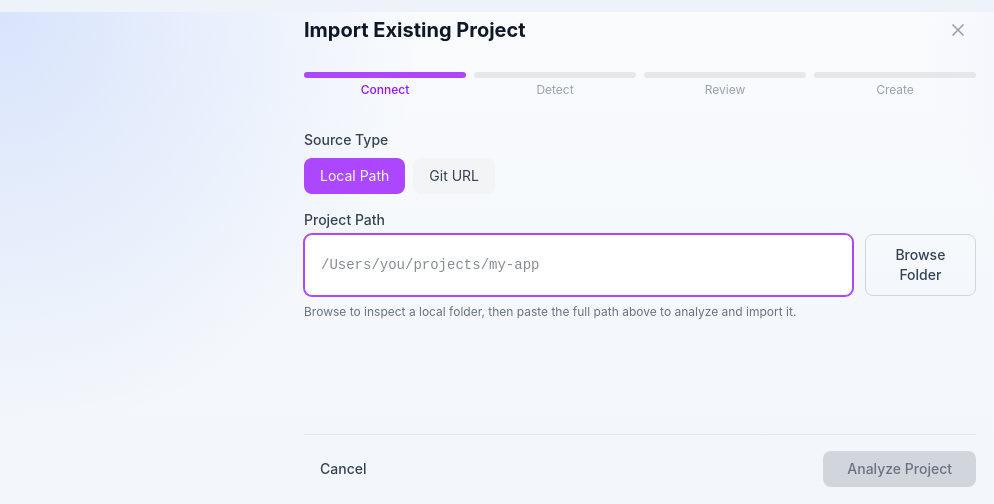
it: ImportProjectWizard › shows local folder browsing controls only in local mode
Expected: the button "Browse Folder" is shown, [865,234,976,296]
Expected: the field labelled "Project Path" is shown, [304,234,853,296]
Click the button "Git URL" at {"x": 454, "y": 176}, box [413,158,495,194]
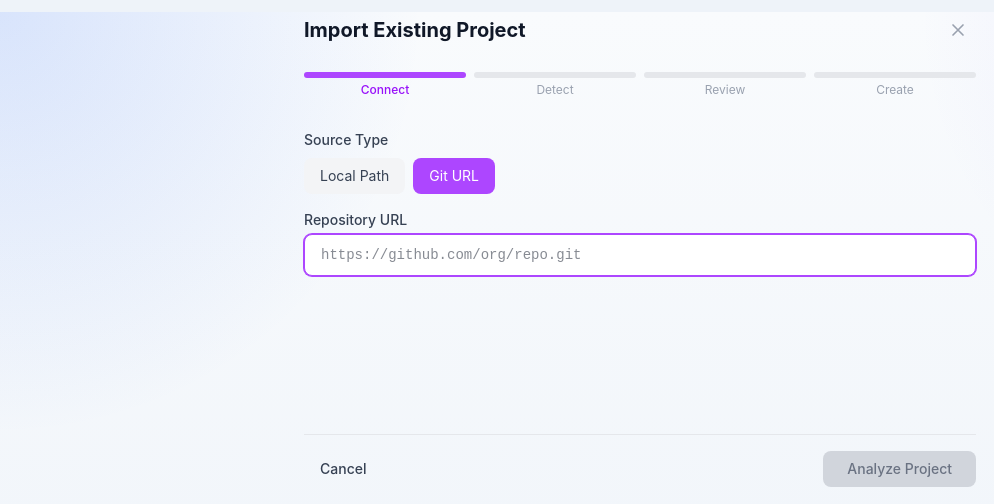
Expected: the field labelled "Repository URL" is shown, [304,234,976,276]
Now the button "Browse Folder" is gone
